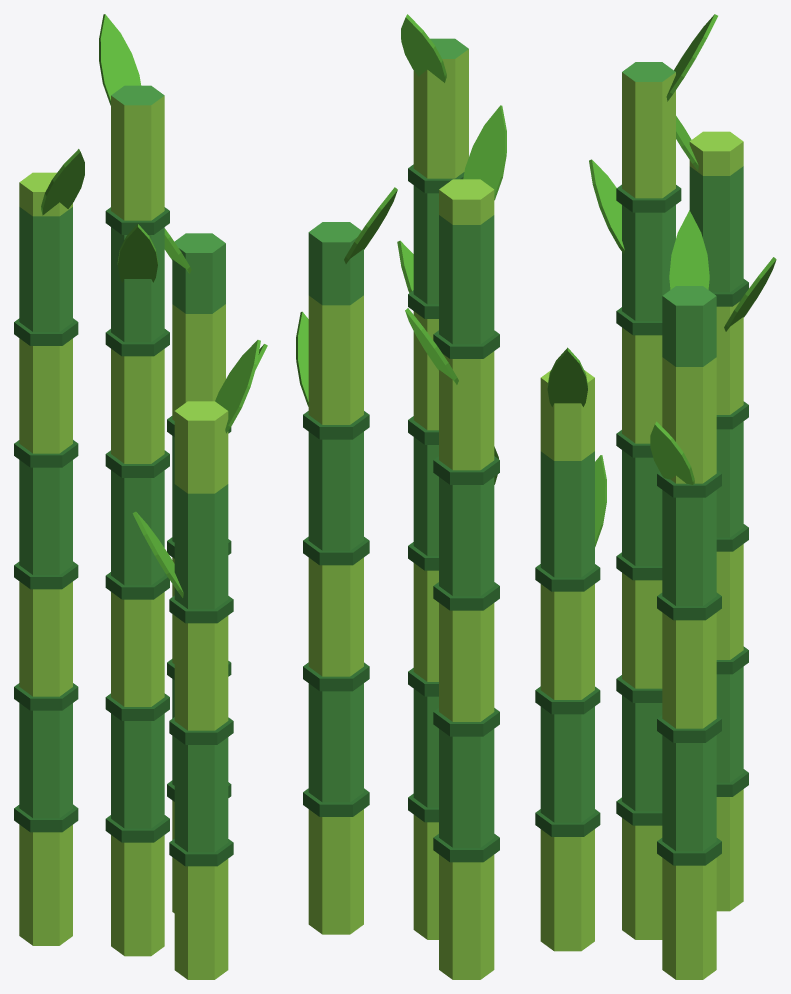
Rendered from Bamboo.fbx.
3 renders of one model, left to right at view 1: azimuth 30°, elevation 25°; view 2: azimuth 150°, elevation 25°; view 3: azimuth 270°, elevation 25°, orthographic. The views are drawn at different scales.
Parts seen in each view (by area): view 1: Bamboo; view 2: Bamboo; view 3: Bamboo.
Part boxes in pixels (box(x1,y1,x2,y2)): Bamboo: box(14, 14, 267, 979); Bamboo: box(296, 14, 506, 979); Bamboo: box(535, 14, 776, 979).
Size of the model in its own units: 1.85 by 7.47 by 1.78.
Materials: 1 (1 with a texture image).
